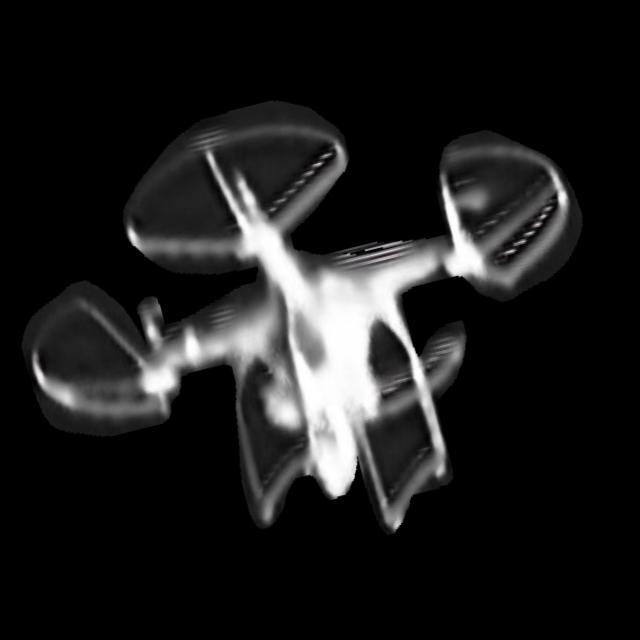drone: (20, 83, 606, 571)
